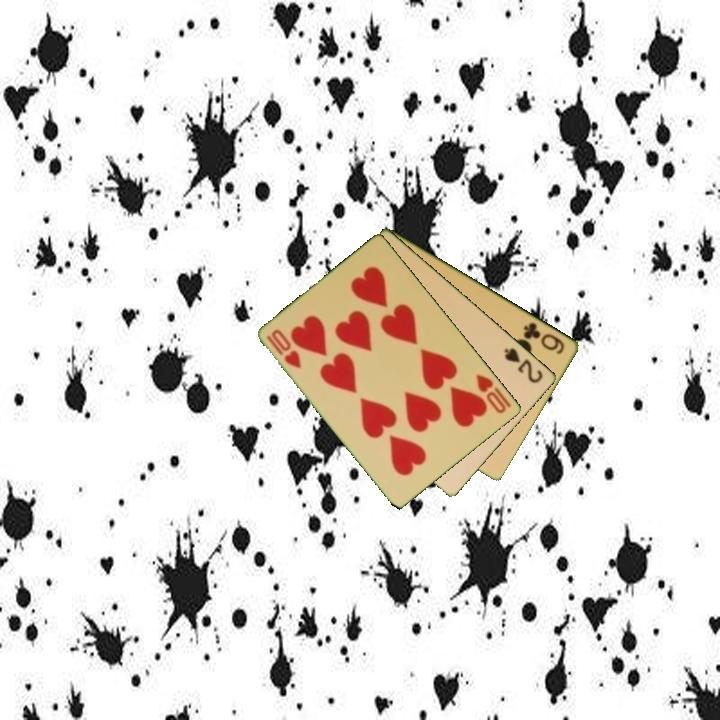10h: (263, 325, 305, 371), (473, 370, 514, 417)
2s: (500, 344, 546, 386)
6c: (520, 318, 568, 357)
